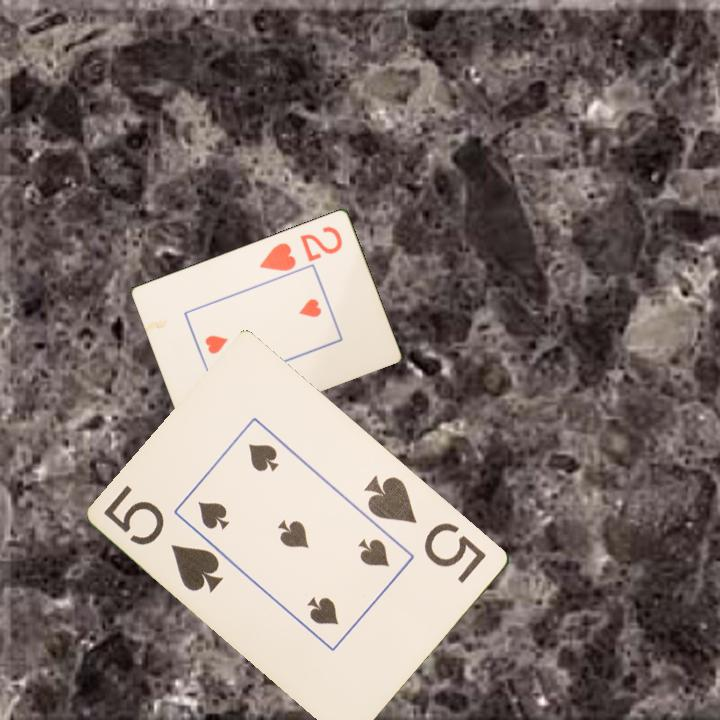2h: (256, 222, 345, 274)
5s: (361, 471, 490, 586), (100, 482, 227, 596)
